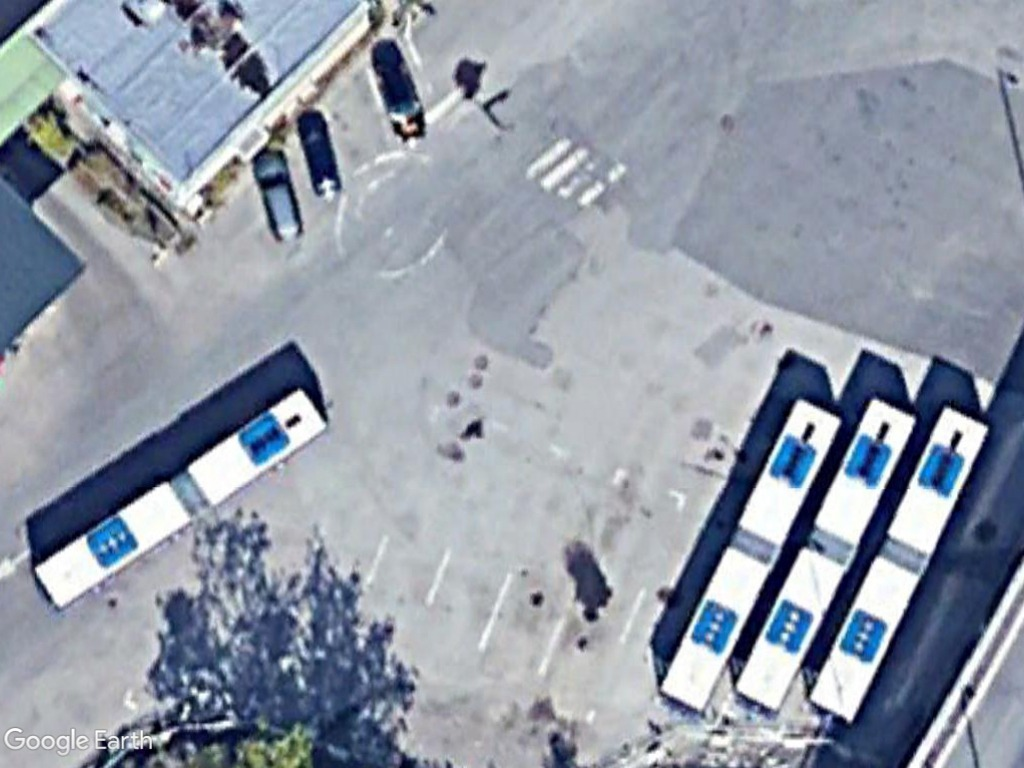bus: (30, 386, 331, 626), (645, 391, 850, 720), (797, 404, 1003, 723), (727, 386, 920, 716)
car: (248, 141, 306, 249), (289, 104, 347, 207)
